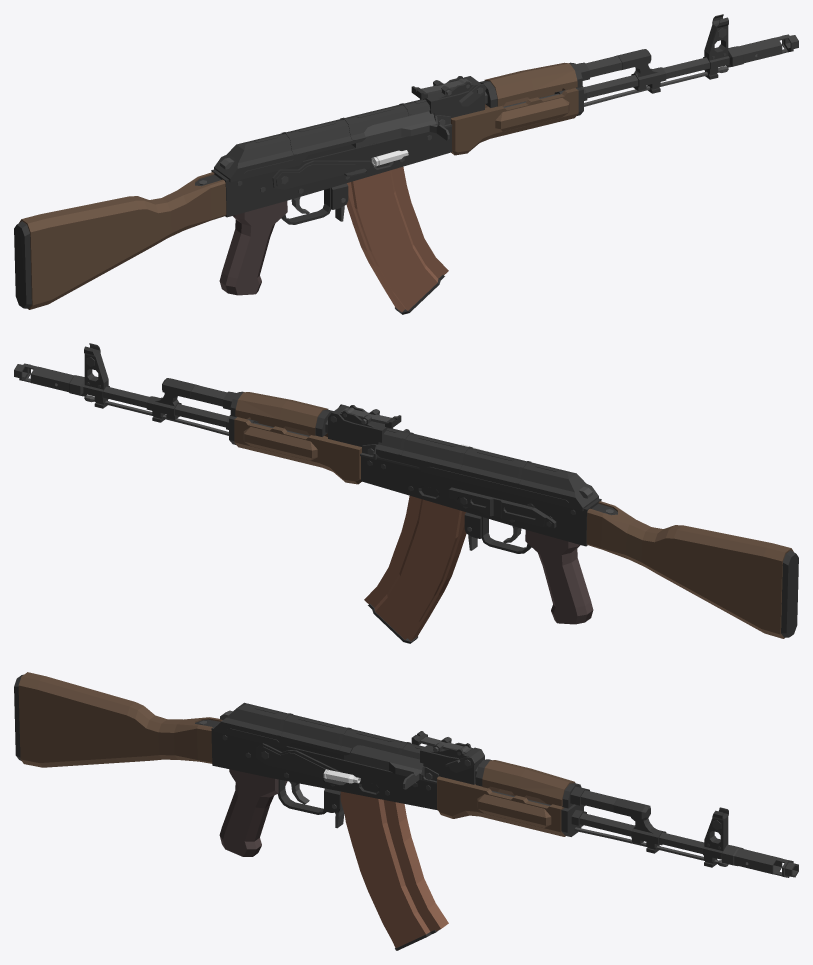
The picture shows the model from 3 angles, top to bottom: view 1: azimuth 30°, elevation 25°; view 2: azimuth 150°, elevation 25°; view 3: azimuth 330°, elevation 25°; orthographic projection.
Parts seen in each view (by area): view 1: Object_37, Object_24, Object_29, Object_28, Object_31, Object_36, Object_32, Object_33; view 2: Object_37, Object_24, Object_29, Object_28, Object_31, Object_36, Object_33; view 3: Object_37, Object_24, Object_29, Object_28, Object_31, Object_36, Object_32, Object_33, Object_34.
Part boxes in pixels (x1=…): Object_37: x1=19, y1=62, x2=578, y2=309; Object_24: x1=214, y1=14, x2=729, y2=189; Object_29: x1=346, y1=167, x2=448, y2=314; Object_28: x1=14, y1=86, x2=452, y2=308; Object_31: x1=433, y1=34, x2=798, y2=127; Object_36: x1=219, y1=201, x2=287, y2=295; Object_32: x1=351, y1=111, x2=449, y2=147; Object_33: x1=220, y1=66, x2=728, y2=213; Object_37: x1=234, y1=392, x2=793, y2=638; Object_24: x1=83, y1=343, x2=598, y2=528; Object_29: x1=364, y1=496, x2=466, y2=643; Object_28: x1=360, y1=415, x2=798, y2=637; Object_31: x1=14, y1=363, x2=419, y2=469; Object_36: x1=525, y1=530, x2=593, y2=624; Object_33: x1=84, y1=395, x2=592, y2=542; Object_37: x1=18, y1=672, x2=575, y2=836; Object_24: x1=214, y1=702, x2=728, y2=867; Object_29: x1=340, y1=791, x2=448, y2=950; Object_28: x1=14, y1=674, x2=437, y2=814; Object_31: x1=421, y1=737, x2=798, y2=877; Object_36: x1=219, y1=769, x2=287, y2=856; Object_32: x1=344, y1=745, x2=423, y2=789; Object_33: x1=220, y1=710, x2=728, y2=866; Object_34: x1=199, y1=720, x2=471, y2=828.
Size of the model in its own units: 963 by 259 by 81.56.
